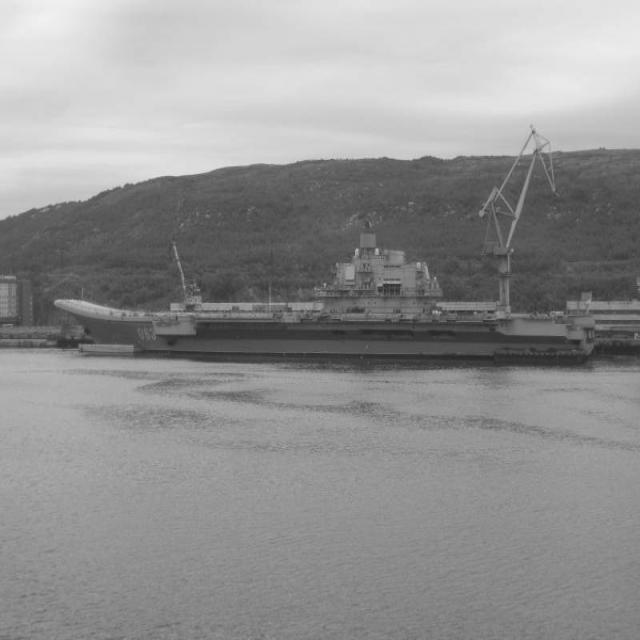Portanaves: (53, 216, 603, 359)
